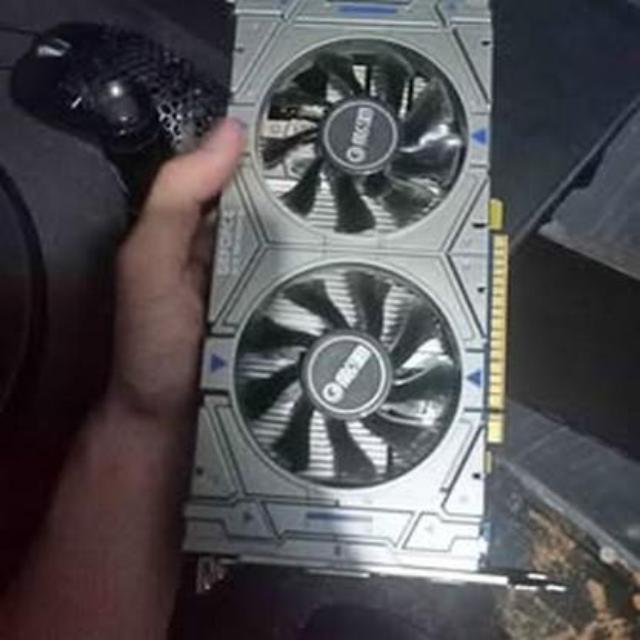GPU: (203, 0, 515, 583)
